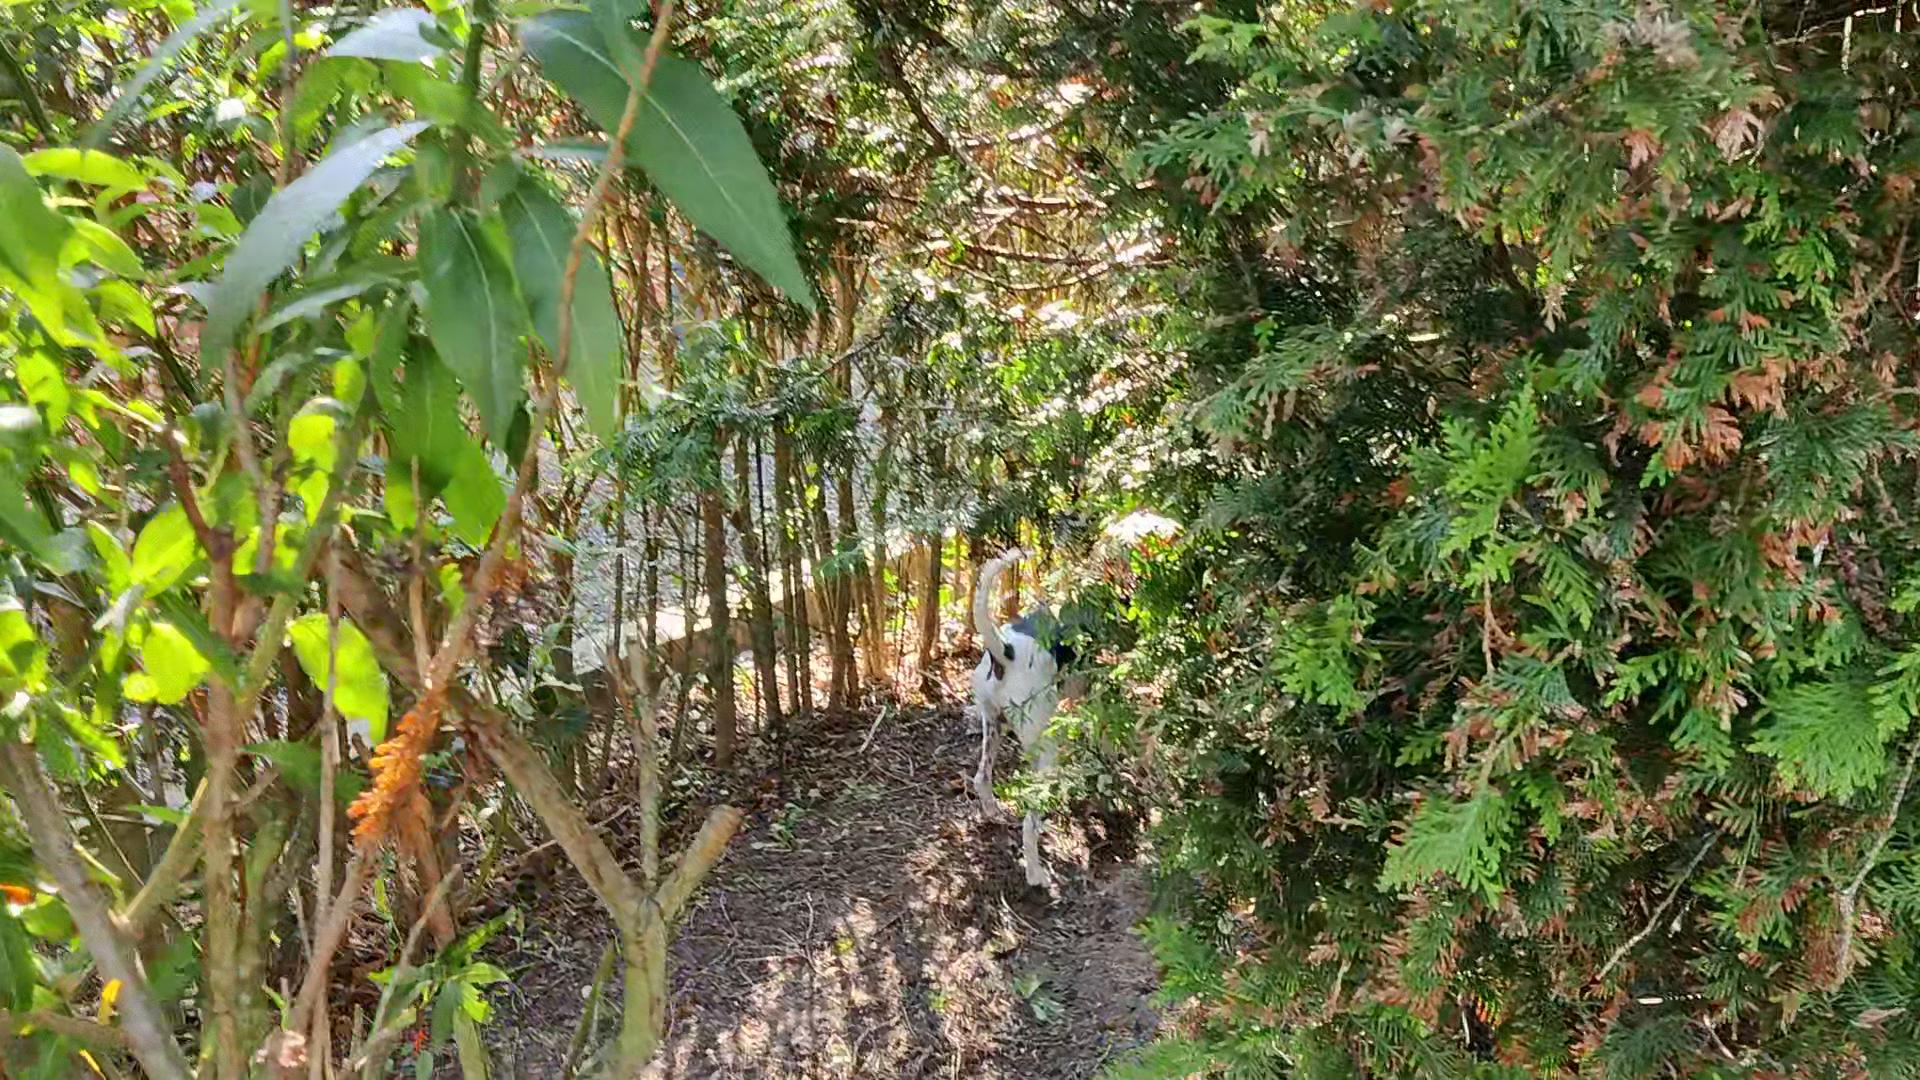Dog: (957, 535, 1137, 903)
